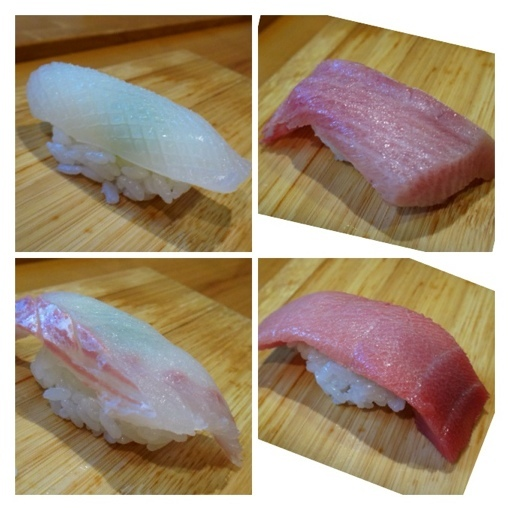medium_fatty_tuna: (257, 290, 487, 468)
